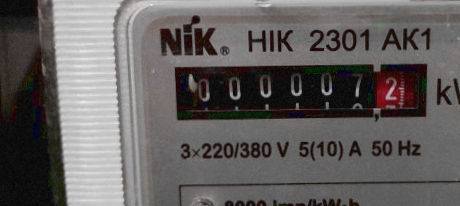0: (256, 72, 274, 99), (226, 74, 243, 102), (318, 69, 334, 98), (195, 76, 212, 103), (288, 70, 303, 97)
2: (383, 74, 399, 103)
7: (348, 71, 364, 100)
screen: (166, 54, 439, 127)
